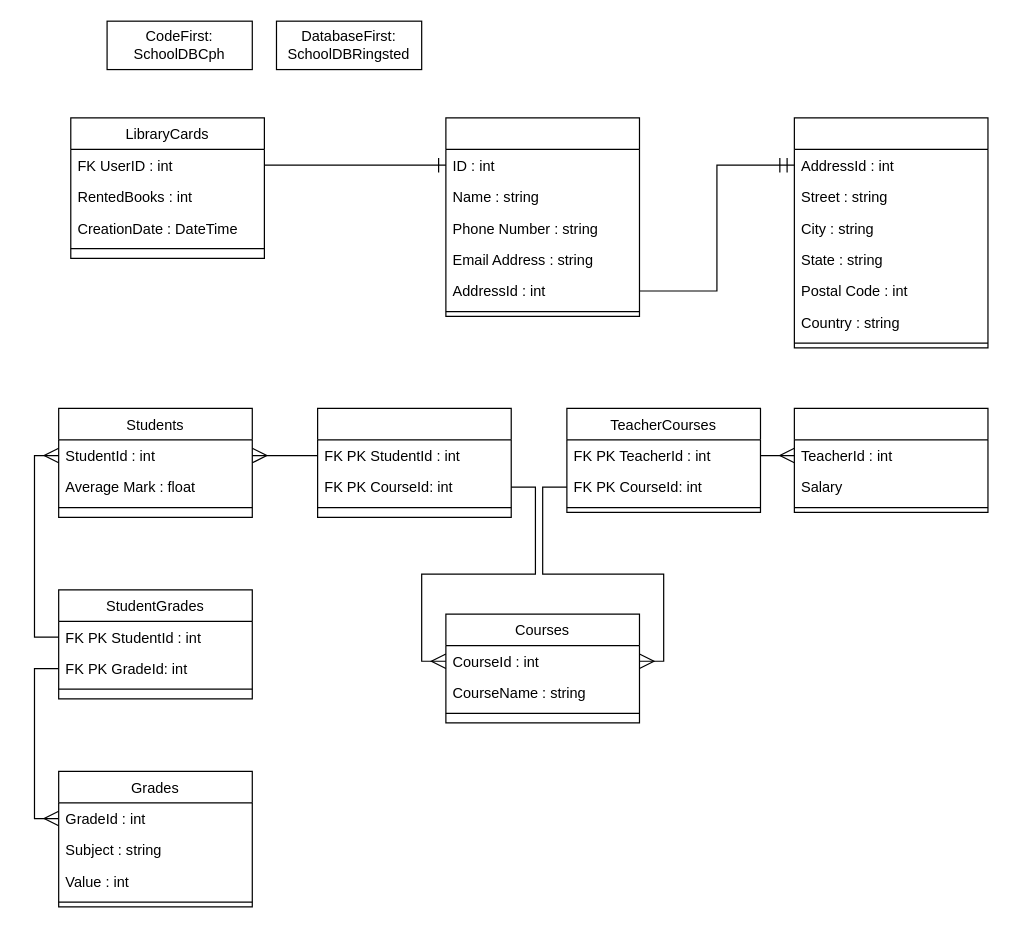
This 1009x928 diagram has some shape labels left out. The shapes that lost their labels are listed below. From the top down, each one's box as (x1, y1, x2, y2) in pixels, then its label:
(445, 117, 639, 316): Persons
(793, 117, 988, 348): Addresses
(316, 407, 511, 517): StudentCourses
(793, 407, 988, 512): Teachers
